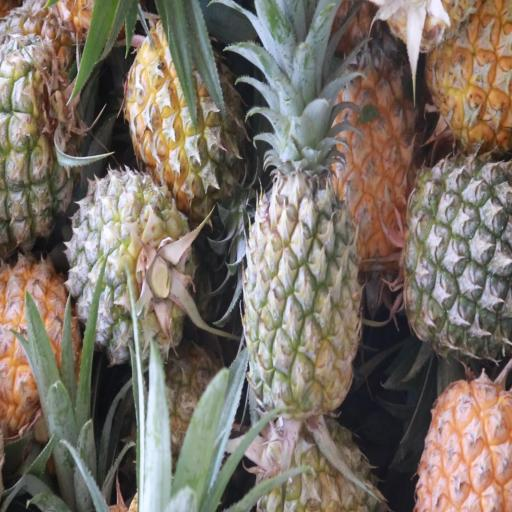------------------------------: (70, 173, 193, 358), (132, 28, 244, 200)
Pineapple - v8 v1: (332, 57, 420, 254), (0, 253, 82, 444), (427, 0, 512, 158)
